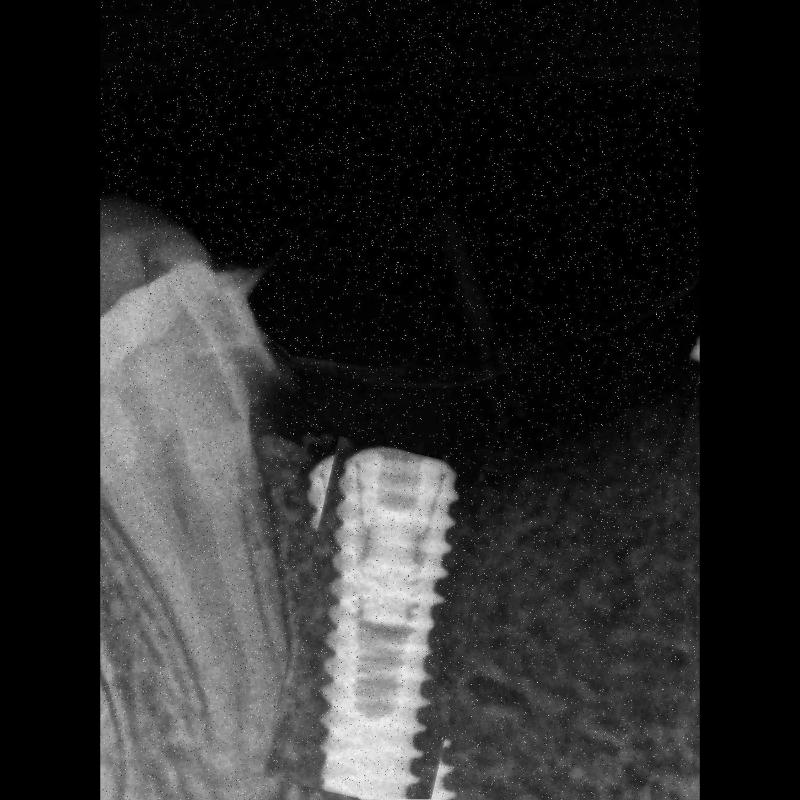osstem: (279, 444, 487, 800)
